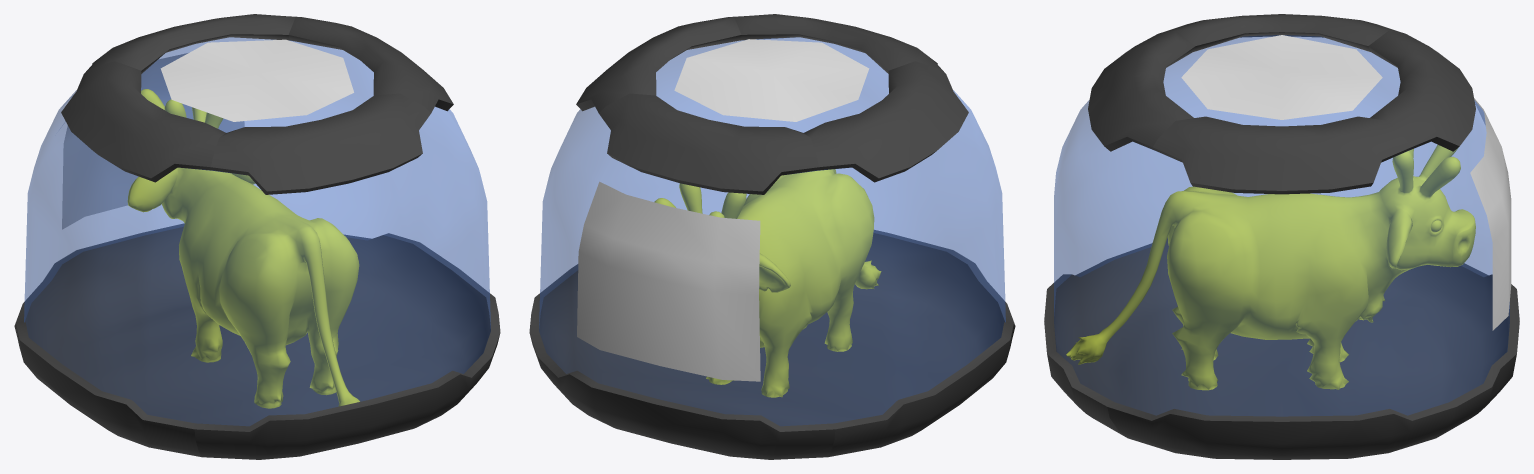
Rendered from obj_characterobject_wocpackage.fbx.
3 renders of one model, left to right at view 1: azimuth 30°, elevation 25°; view 2: azimuth 150°, elevation 25°; view 3: azimuth 270°, elevation 25°, orthographic.
Visible parts, largest first — view 1: obj_characterobject_wocpackage; view 2: obj_characterobject_wocpackage; view 3: obj_characterobject_wocpackage.
Part boxes in pixels (x1,y1,x2,y2): obj_characterobject_wocpackage: [14, 14, 500, 459]; obj_characterobject_wocpackage: [529, 14, 1015, 459]; obj_characterobject_wocpackage: [1044, 14, 1519, 459].
Size of the model in its own units: 12.66 by 9.09 by 12.66.
